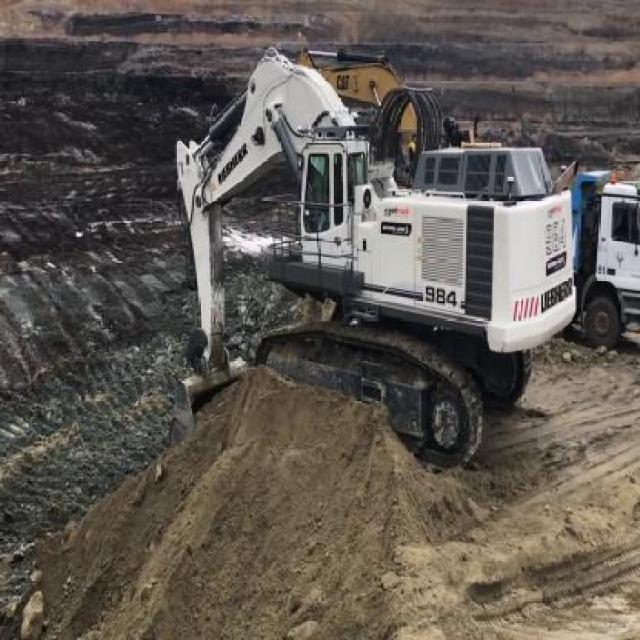Dump Truck: (564, 162, 639, 349)
Excavator: (175, 46, 574, 469)
